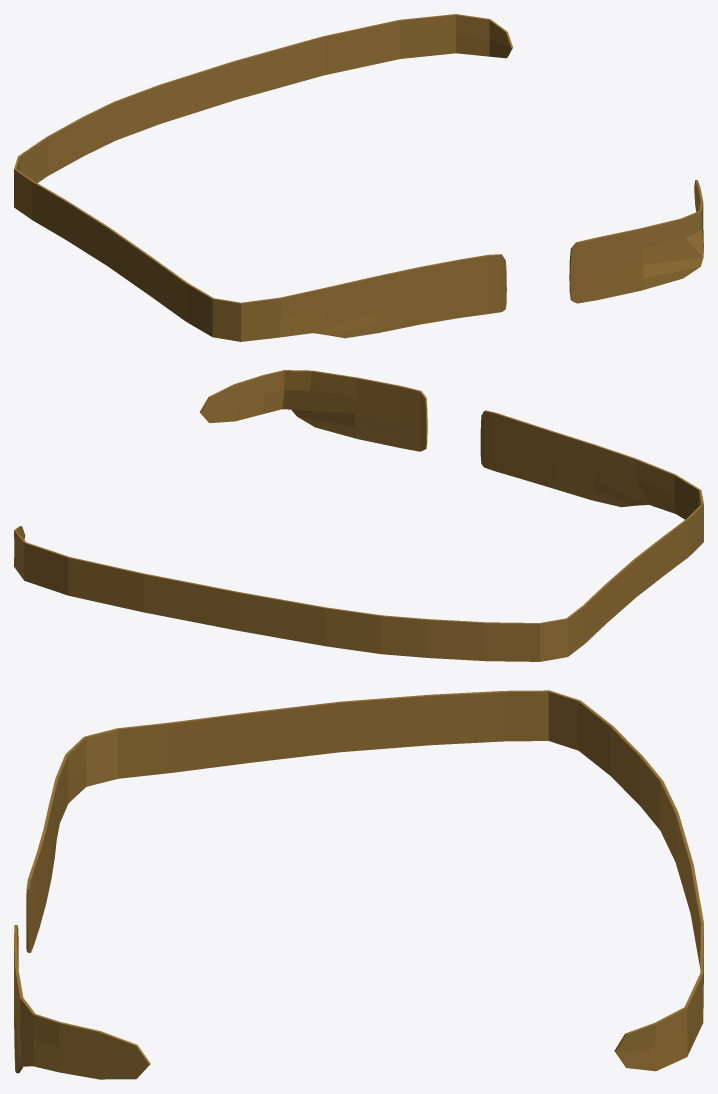
The model's file is MainFens.fbx.
3 views of the same model, one above another, from view 1: azimuth 30°, elevation 25°; view 2: azimuth 150°, elevation 25°; view 3: azimuth 270°, elevation 25° (orthographic). The views are drawn at different scales.
Visible parts, largest first — view 1: GardenFens.002; view 2: GardenFens.002; view 3: GardenFens.002.
Part boxes in pixels (x1,y1,x2,y2): GardenFens.002: (14, 14, 703, 341); GardenFens.002: (14, 370, 703, 661); GardenFens.002: (14, 690, 703, 1079).
Bounding box in the file's own units: 5027 × 654 × 4424.
